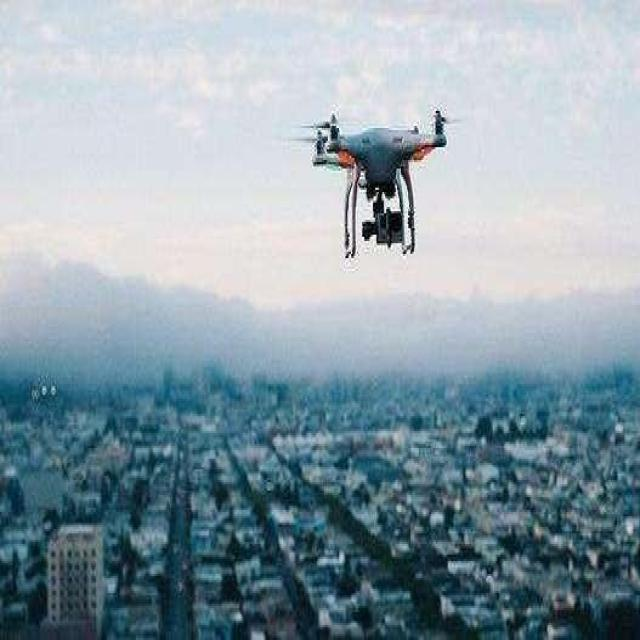drone: (308, 107, 449, 258)
